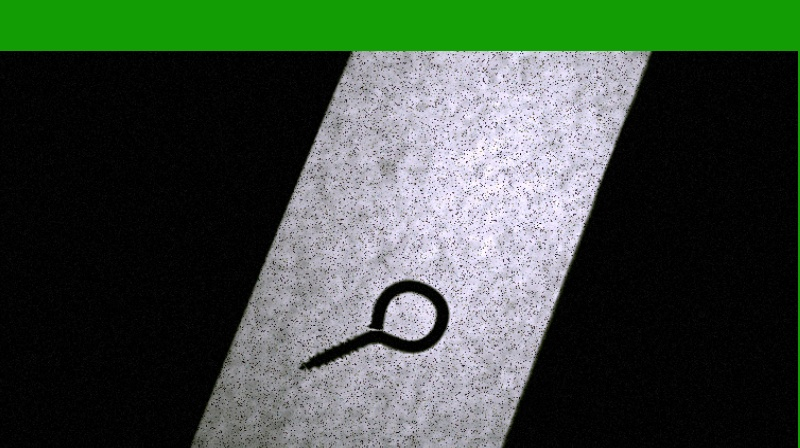O001: (295, 275, 461, 373)
